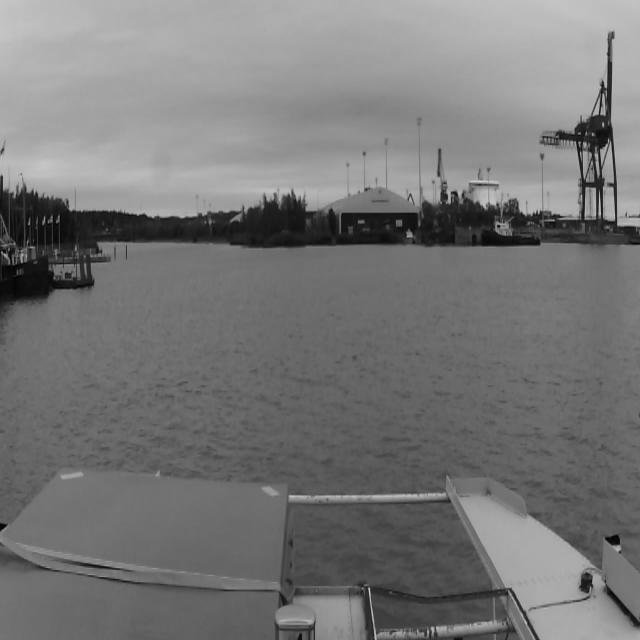ship: (479, 196, 542, 246)
